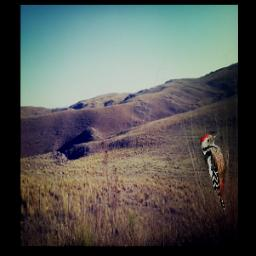Woodpecker: (200, 133, 229, 214)
